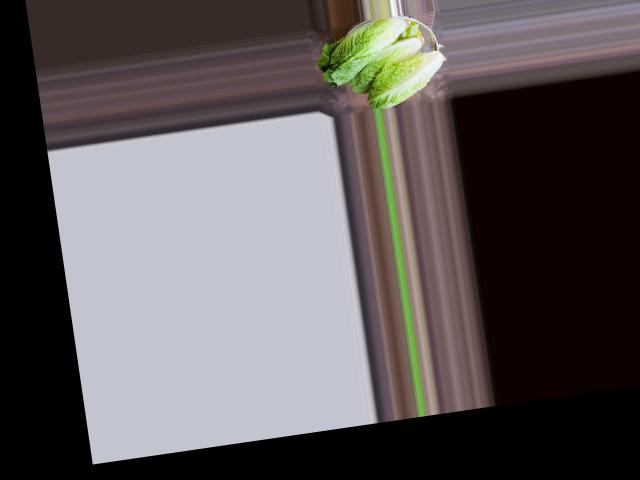lettuce: (315, 13, 425, 89)
